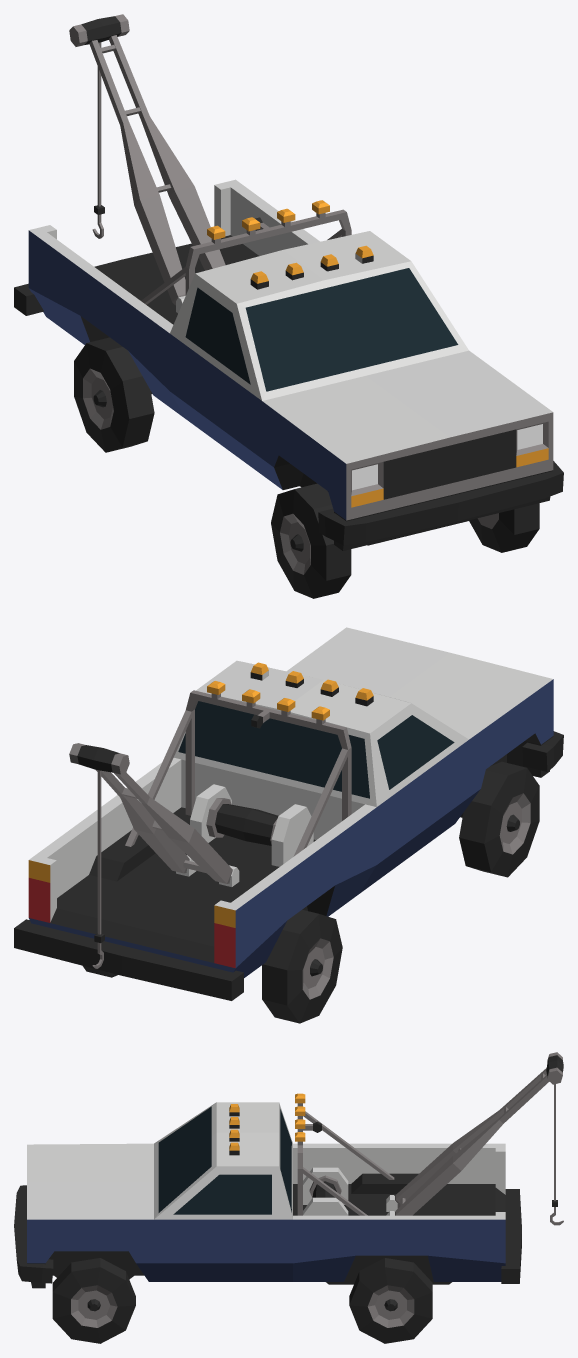
Rendered from car-tow-truck.glb.
The picture shows the model from 3 angles, top to bottom: view 1: azimuth 30°, elevation 25°; view 2: azimuth 150°, elevation 25°; view 3: azimuth 270°, elevation 25°; orthographic projection. The views are drawn at different scales.
Visible parts, largest first — view 1: car-tow-truck-base, car-tow-truck_BR, car-tow-truck-wheel_FR, car-tow-truck-wheel_FL; view 2: car-tow-truck-base, car-tow-truck-wheel_FR, car-tow-truck_BR; view 3: car-tow-truck-base, car-tow-truck-wheel_FL, car-tow-truck-wheel_BL.
Part boxes in pixels (left/top/right/bottom): car-tow-truck-base: left=14, top=14, right=563, bottom=550; car-tow-truck_BR: left=74, top=337, right=154, bottom=452; car-tow-truck-wheel_FR: left=271, top=483, right=351, bottom=598; car-tow-truck-wheel_FL: left=469, top=503, right=539, bottom=552; car-tow-truck-base: left=14, top=627, right=563, bottom=1000; car-tow-truck-wheel_FR: left=459, top=761, right=539, bottom=877; car-tow-truck_BR: left=262, top=909, right=342, bottom=1023; car-tow-truck-base: left=14, top=1052, right=563, bottom=1288; car-tow-truck-wheel_FL: left=52, top=1258, right=135, bottom=1343; car-tow-truck-wheel_BL: left=349, top=1258, right=432, bottom=1343.
Bounding box in the file's own units: 1.96 × 2.66 × 5.43.
Materials: 2 (2 with a texture image).
